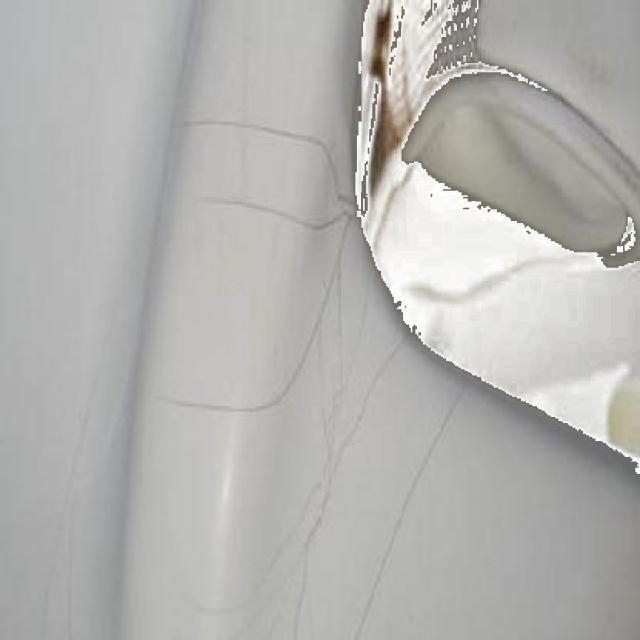crack: (217, 116, 368, 169), (193, 195, 321, 234), (173, 384, 264, 430)
